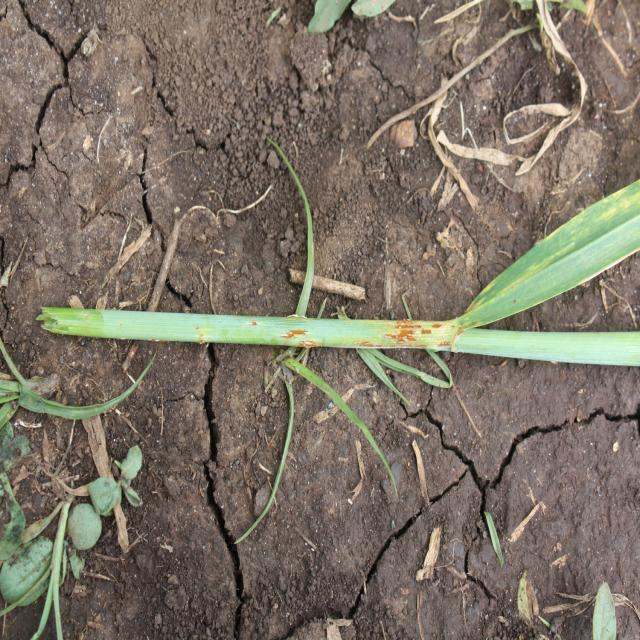wheat-stemrust: (384, 322, 425, 344), (281, 330, 311, 342), (298, 339, 321, 346), (420, 330, 432, 336)
